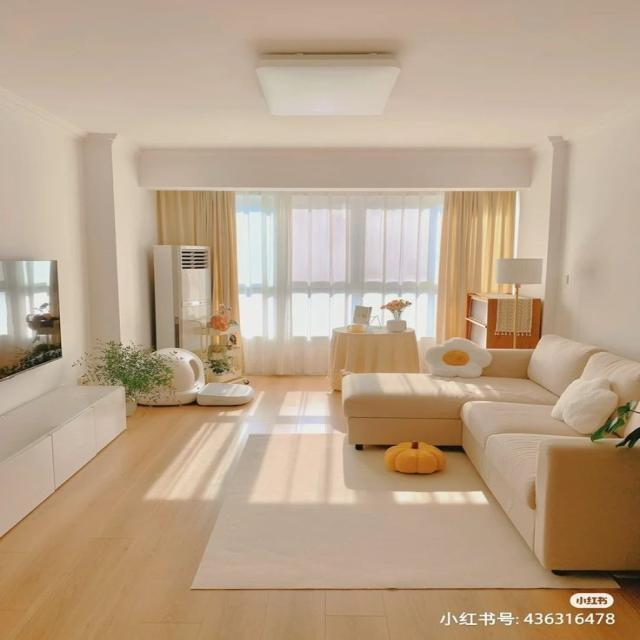obstacle: (341, 332, 638, 576), (0, 386, 140, 542), (327, 324, 419, 392), (464, 292, 542, 349)
